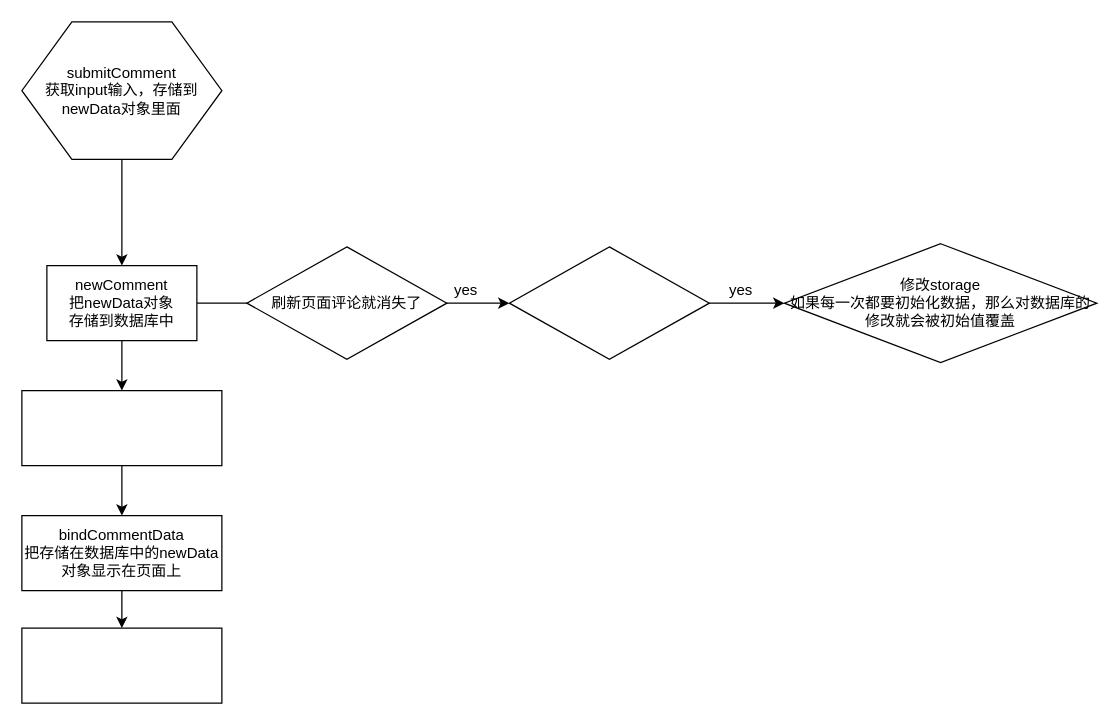
Some shapes in this 1119 by 725 pixel diagram are drawn without their labels. Here are the shapes that lost their labels. From the top down, the box of each, then its label:
(508, 246, 709, 359): storage缓存问题
(21, 389, 222, 466): showCommitSuccessToast 显示发布评论成功
(21, 627, 222, 703): resetAllDefaultStatus 清空input输入框恢复初始状态
